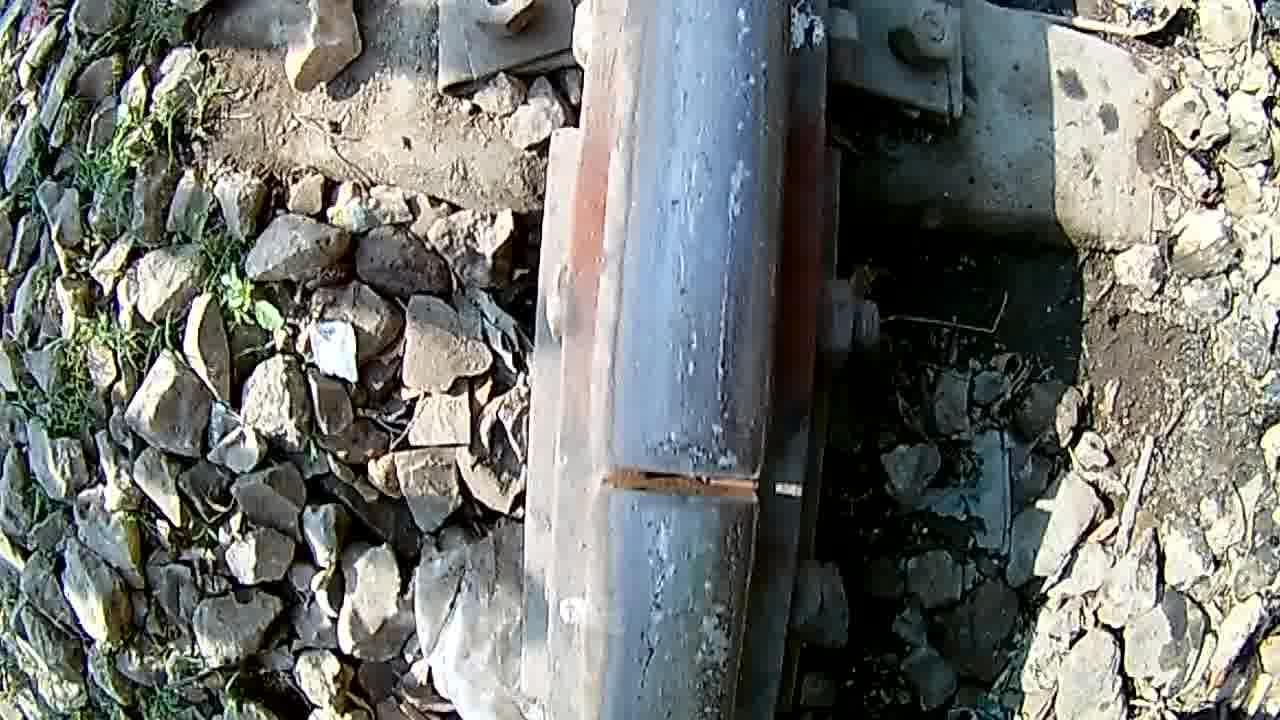crack: (619, 3, 800, 448)
